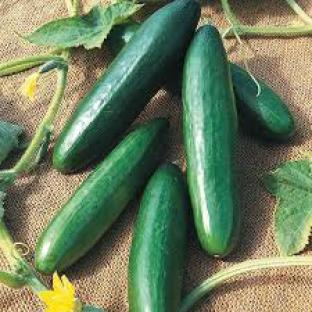Cucumber: (37, 118, 167, 274), (182, 25, 239, 256), (128, 164, 189, 311), (231, 64, 295, 140), (106, 21, 141, 55)
